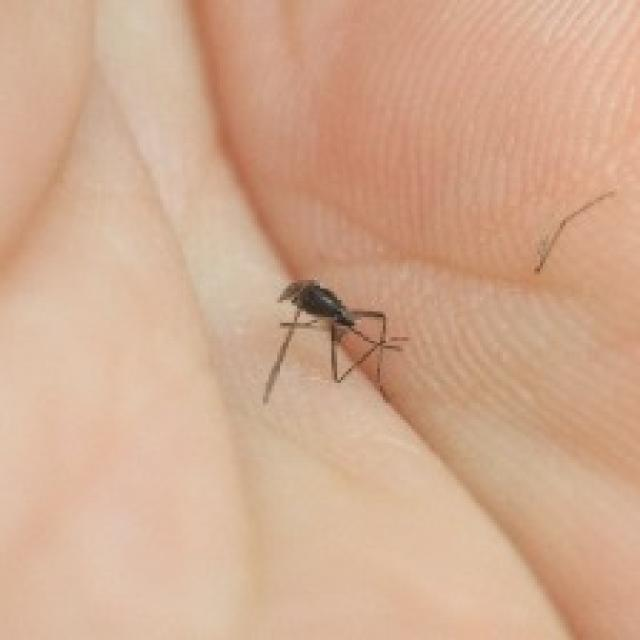aedes: (257, 274, 406, 406)
